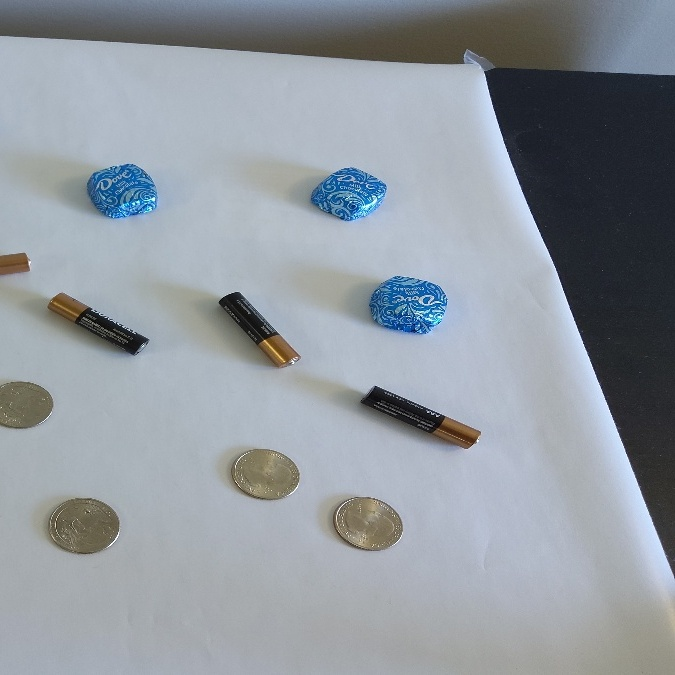battery: (358, 373, 495, 454), (205, 279, 311, 383), (45, 280, 153, 362)
chocolate_blue: (306, 161, 399, 231), (365, 270, 455, 339), (83, 158, 165, 232)
coin_quarter: (326, 488, 413, 556), (47, 490, 125, 562), (228, 445, 303, 505)
